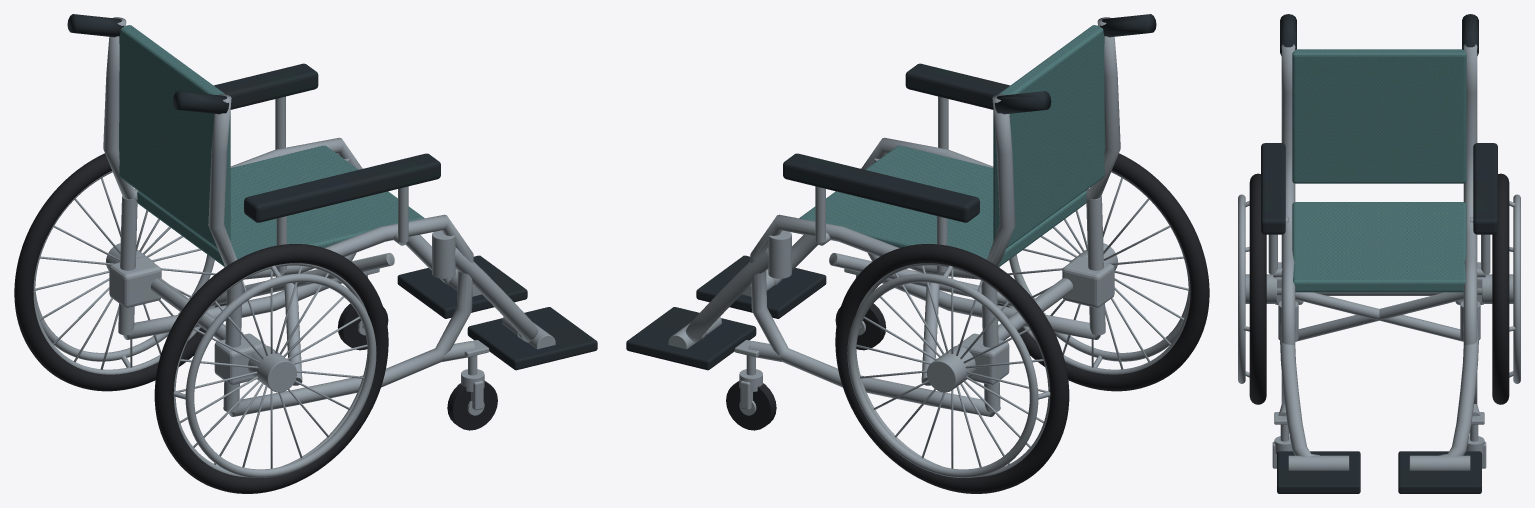
The model's file is crime-manual-wheelchair.glb.
3 views of the same model, side by side, from view 1: azimuth 30°, elevation 25°; view 2: azimuth 150°, elevation 25°; view 3: azimuth 270°, elevation 25° (orthographic). The views are drawn at different scales.
Parts seen in each view (by area): view 1: Wheelchair back sling, Wheelchair rear tyre, Wheelchair seat sling, Wheelchair frame, Wheelchair rear tyre.001, Arm rest, Hand propulsion rim, Wheelchair frame.001, Folding foot plate, Folding foot plate.001, Arm rest.001, Rear wheel axle bearing block.001 (+16 smaller); view 2: Wheelchair back sling, Wheelchair rear tyre.001, Wheelchair seat sling, Wheelchair frame.001, Wheelchair rear tyre, Arm rest.001, Hand propulsion rim.001, Wheelchair frame, Folding foot plate.001, Folding foot plate, Arm rest, Rear wheel axle bearing block (+16 smaller); view 3: Wheelchair back sling, Wheelchair seat sling, Wheelchair rear tyre, Wheelchair rear tyre.001, Wheelchair frame, Wheelchair frame.001, Folding foot plate, Folding foot plate.001, Arm rest, Arm rest.001, Folding cross brace, Folding cross brace.001 (+13 smaller).
Part boxes in pixels (box(x1,y1,x2,y2)): Wheelchair back sling: box(119, 25, 230, 248); Wheelchair rear tyre: box(154, 244, 388, 493); Wheelchair seat sling: box(137, 145, 424, 266); Wheelchair frame: box(208, 94, 473, 416); Wheelchair rear tyre.001: box(14, 153, 226, 391); Arm rest: box(244, 153, 440, 222); Hand propulsion rim: box(185, 273, 376, 477); Wheelchair frame.001: box(103, 17, 362, 339); Folding foot plate: box(467, 307, 597, 370); Folding foot plate.001: box(397, 255, 527, 318); Arm rest.001: box(214, 63, 318, 109); Rear wheel axle bearing block.001: box(109, 256, 161, 307); Wheelchair back sling: box(993, 25, 1104, 248); Wheelchair rear tyre.001: box(835, 244, 1069, 493); Wheelchair seat sling: box(799, 145, 1086, 266); Wheelchair frame.001: box(750, 94, 1015, 416); Wheelchair rear tyre: box(997, 153, 1209, 391); Arm rest.001: box(783, 153, 979, 222); Hand propulsion rim.001: box(847, 273, 1038, 477); Wheelchair frame: box(861, 17, 1120, 339); Folding foot plate.001: box(626, 307, 756, 370); Folding foot plate: box(696, 255, 826, 318); Arm rest: box(905, 63, 1009, 109); Rear wheel axle bearing block: box(1062, 256, 1114, 307); Wheelchair back sling: box(1292, 49, 1466, 183); Wheelchair seat sling: box(1292, 202, 1466, 292); Wheelchair rear tyre: box(1249, 173, 1266, 404); Wheelchair rear tyre.001: box(1492, 173, 1509, 404); Wheelchair frame: box(1281, 44, 1295, 403); Wheelchair frame.001: box(1463, 44, 1477, 403); Folding foot plate: box(1277, 451, 1360, 493); Folding foot plate.001: box(1398, 451, 1481, 493); Arm rest: box(1261, 143, 1285, 234); Arm rest.001: box(1473, 143, 1497, 234); Folding cross brace: box(1295, 292, 1463, 341); Folding cross brace.001: box(1295, 292, 1463, 341).
Size of the model in its own units: 1.2 by 1.02 by 0.746.
Materials: 4 (4 with a texture image).
